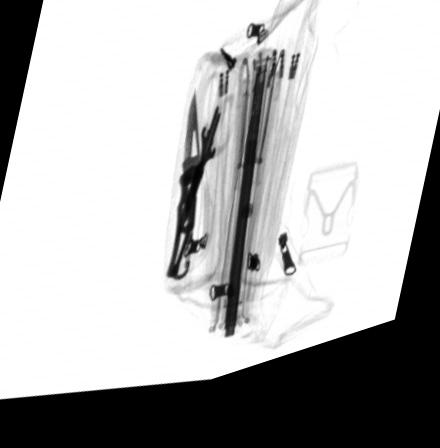Knife: (165, 100, 200, 292)
Scissors: (174, 82, 240, 259)
